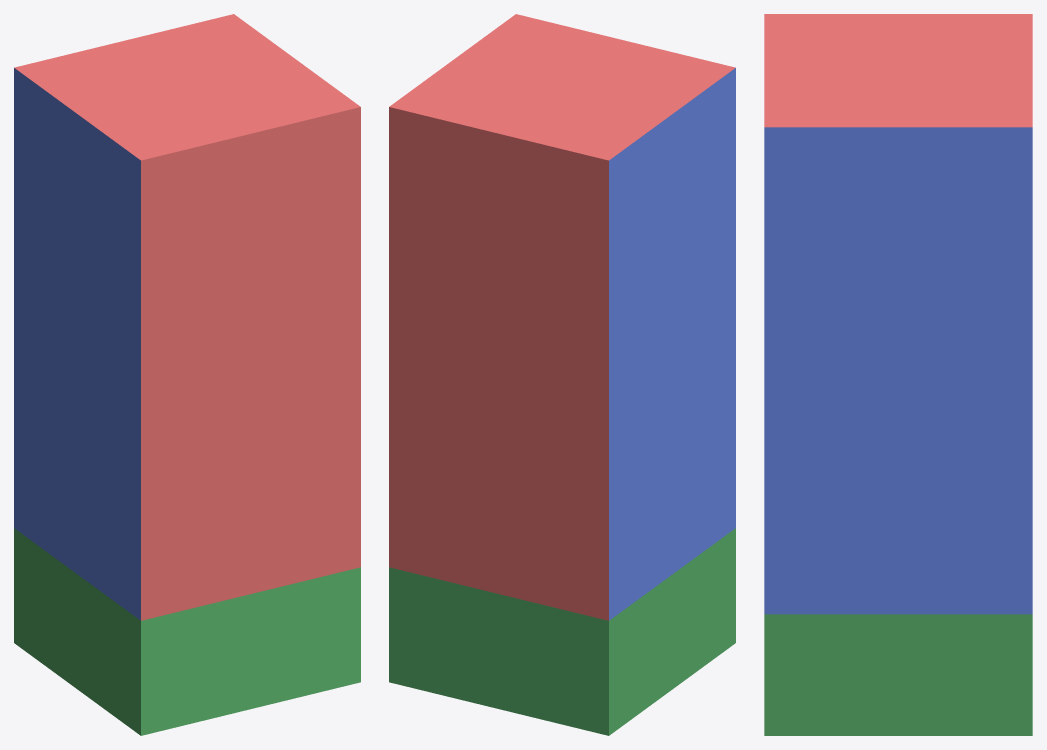
Rendered from init_origin.pipe_length_1_0.dae.
The picture shows the model from 3 angles, left to right: view 1: azimuth 30°, elevation 25°; view 2: azimuth 150°, elevation 25°; view 3: azimuth 270°, elevation 25°; orthographic projection. The views are drawn at different scales.
Parts seen in each view (by area): view 1: ZXX (×3), ZXO (×2), Y (×2); view 2: ZXX (×3), ZXO (×2), Y (×2); view 3: ZXX (×2), ZXO, Y.
Part boxes in pixels (box(x1,y1,x2,y2)): ZXX (×3): box(14, 14, 360, 390); ZXO (×2): box(14, 298, 360, 620); Y (×2): box(14, 528, 360, 735); ZXX (×3): box(389, 14, 735, 390); ZXO (×2): box(389, 298, 735, 620); Y (×2): box(389, 528, 735, 735); ZXX (×2): box(764, 14, 1032, 370); ZXO: box(764, 371, 1032, 614); Y: box(764, 614, 1032, 735).
Bounding box in the file's own units: 1 × 1 × 2.5.
